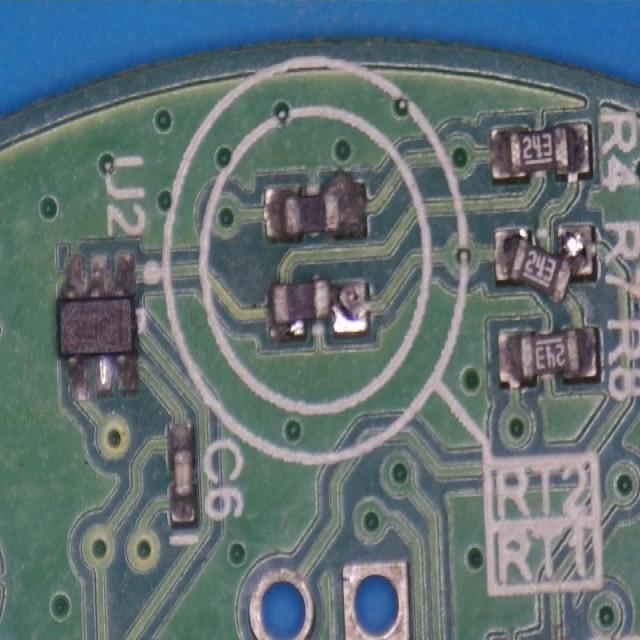Incorrect_installation: (493, 222, 595, 304), (266, 278, 370, 342)
